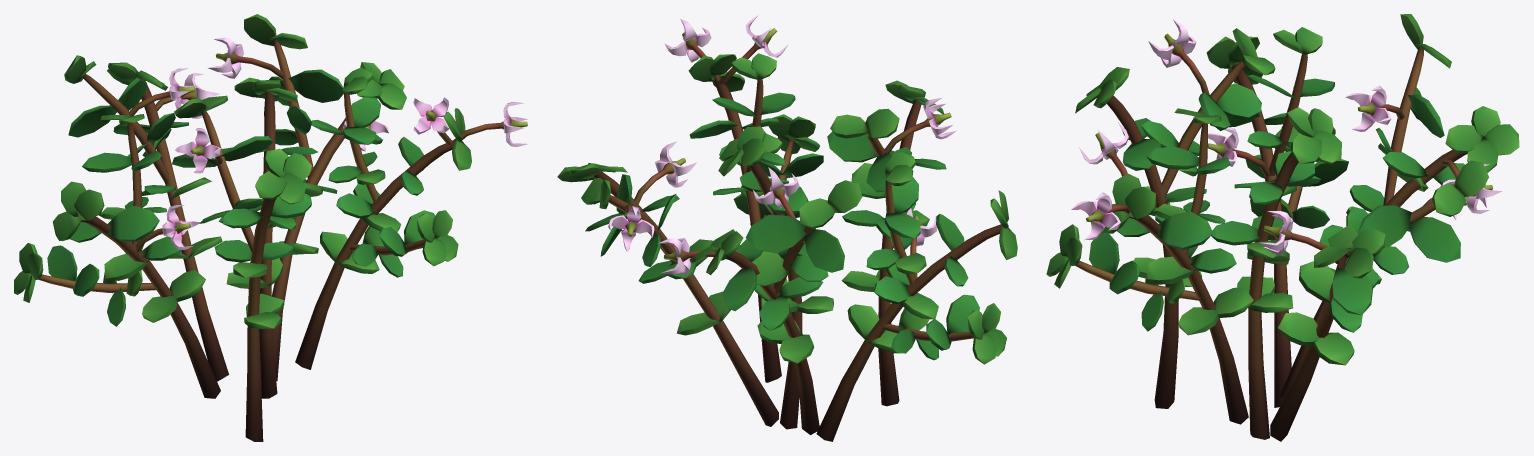
The model's file is SM_Plant_Cranberry_Lv2.fbx.
3 views of the same model, side by side, from view 1: azimuth 30°, elevation 25°; view 2: azimuth 150°, elevation 25°; view 3: azimuth 270°, elevation 25° (orthographic). The views are drawn at different scales.
Visible parts, largest first — view 1: SM_Plant_Cranberry_Lv2; view 2: SM_Plant_Cranberry_Lv2; view 3: SM_Plant_Cranberry_Lv2.
Part boxes in pixels (left/top/right/bottom): SM_Plant_Cranberry_Lv2: left=14, top=14, right=527, bottom=441; SM_Plant_Cranberry_Lv2: left=557, top=14, right=1017, bottom=441; SM_Plant_Cranberry_Lv2: left=1046, top=14, right=1519, bottom=441.
Bounding box in the file's own units: 60.3 × 45.01 × 52.85.
